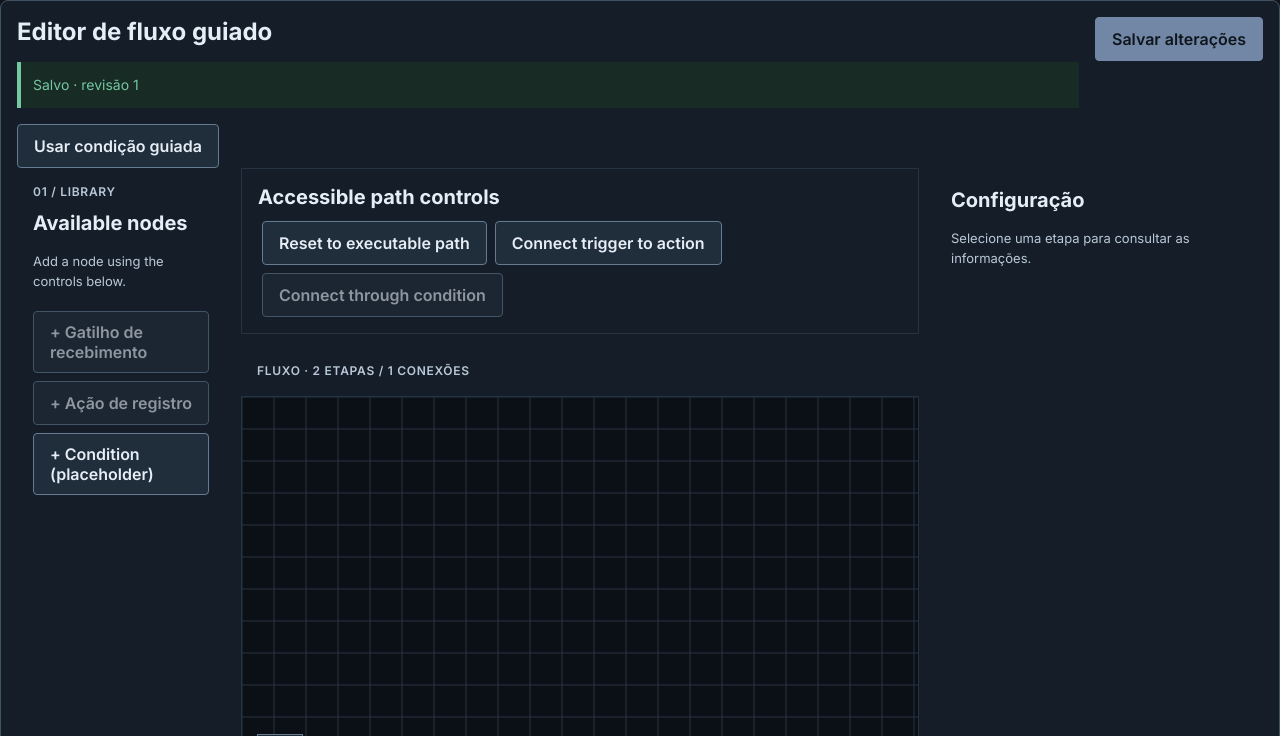
Test case: keeps a rejected draft editable and dirty without reconciliation
The width and height of the screenshot is (1280, 736).
Click the button "+ Condition (placeholder)" at (121, 464), box [33, 433, 209, 495]
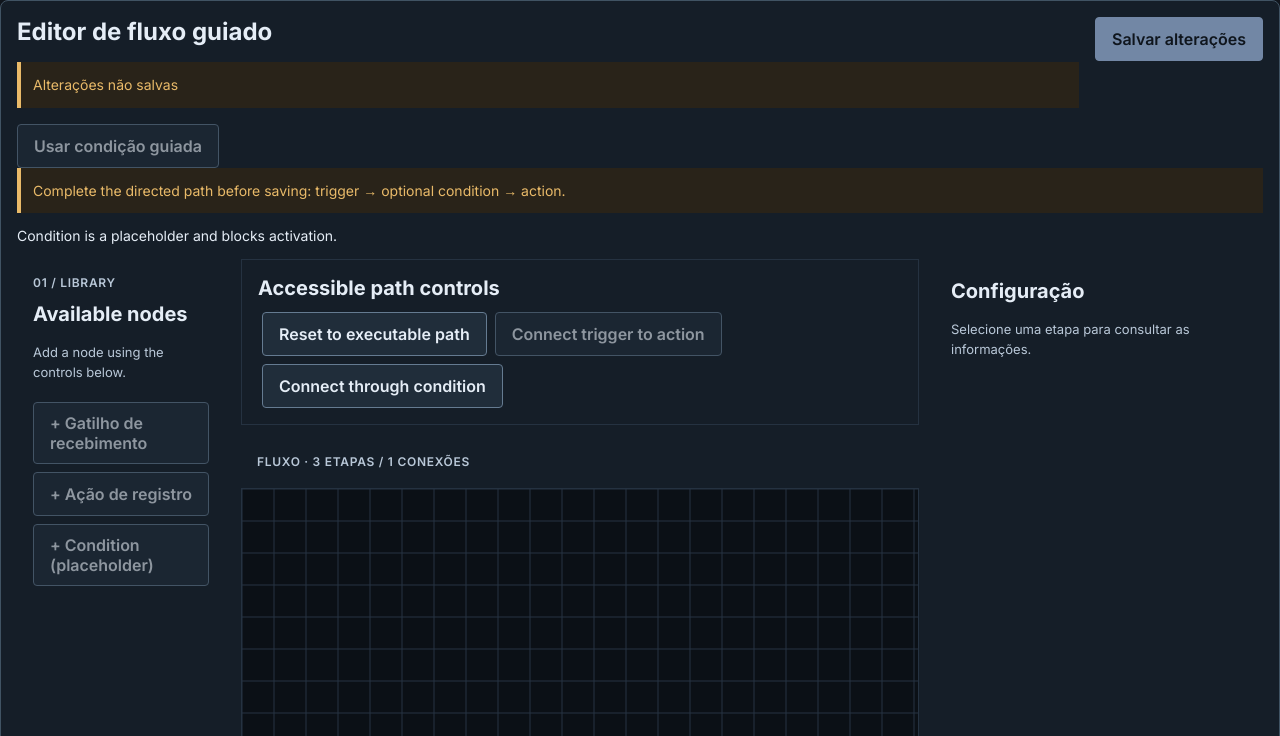
Click the button "Connect through condition" at (382, 386), box [262, 364, 503, 408]
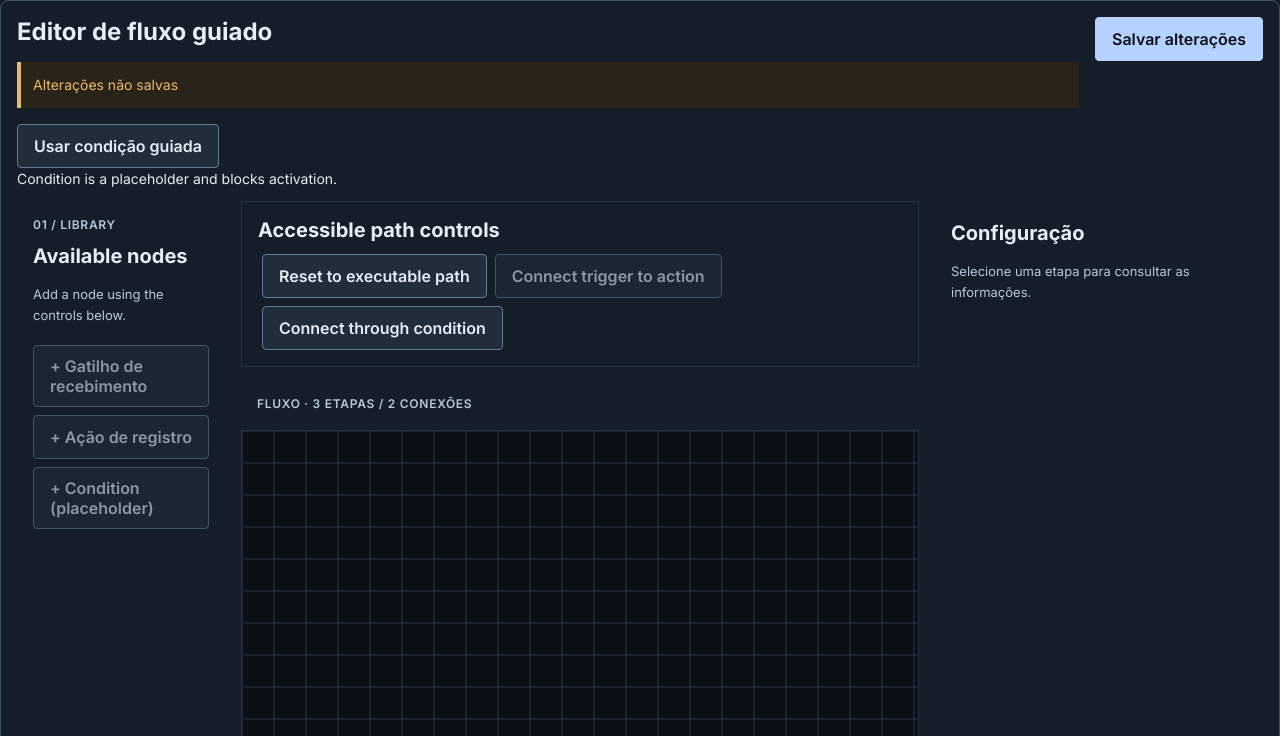
Click the button "Salvar alterações" at (1179, 39), box [1095, 17, 1263, 61]
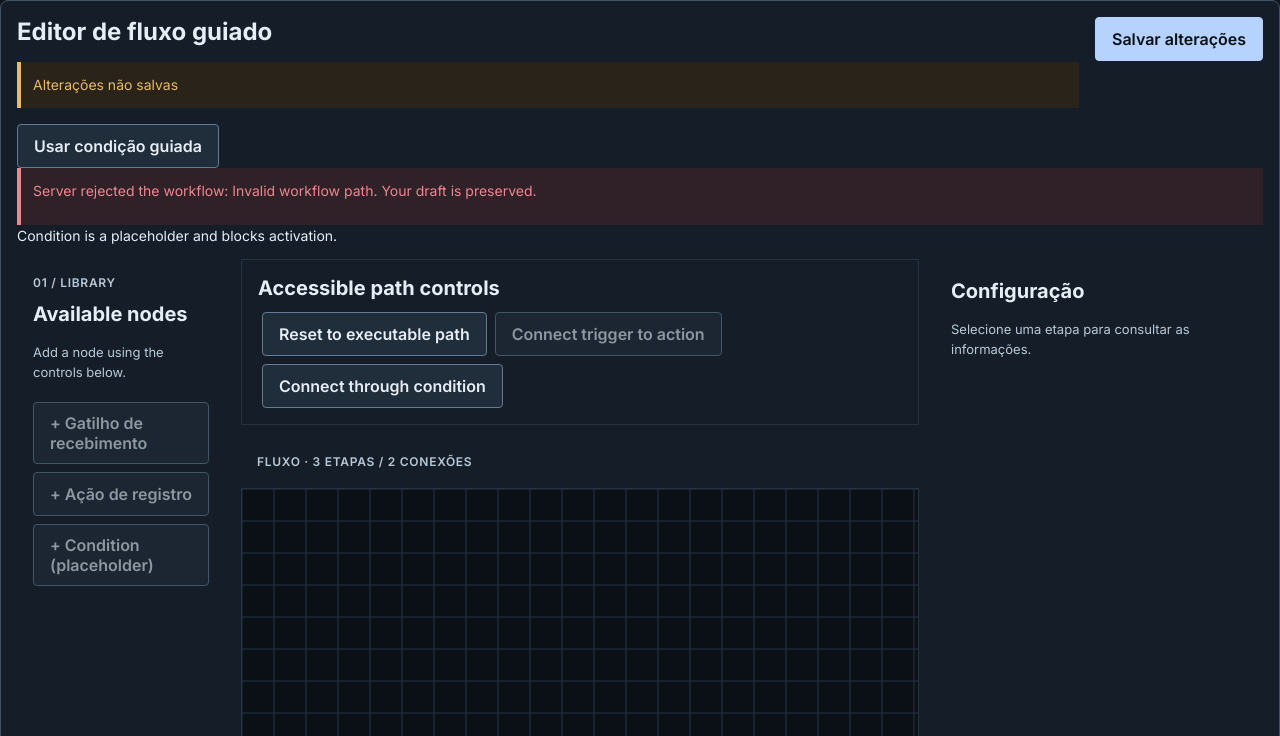
Expected: the button "Salvar alterações" is enabled, [1095, 17, 1263, 61]
Expected: the message "Server rejected the workflow: Invalid workflow path. Your draft is preserved." is shown, [17, 168, 1263, 225]
